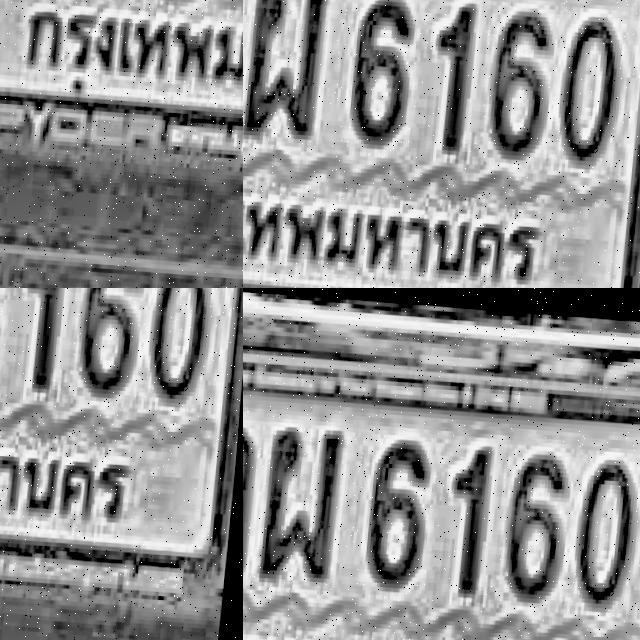license-plate: (243, 325, 640, 640)
